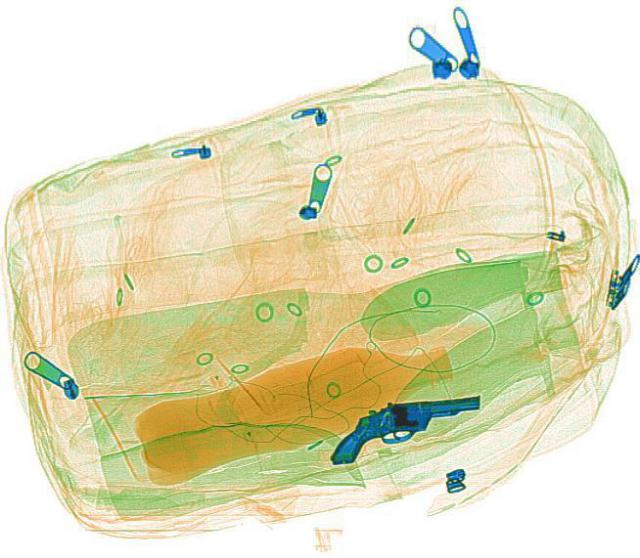Gun: (313, 378, 492, 465)
